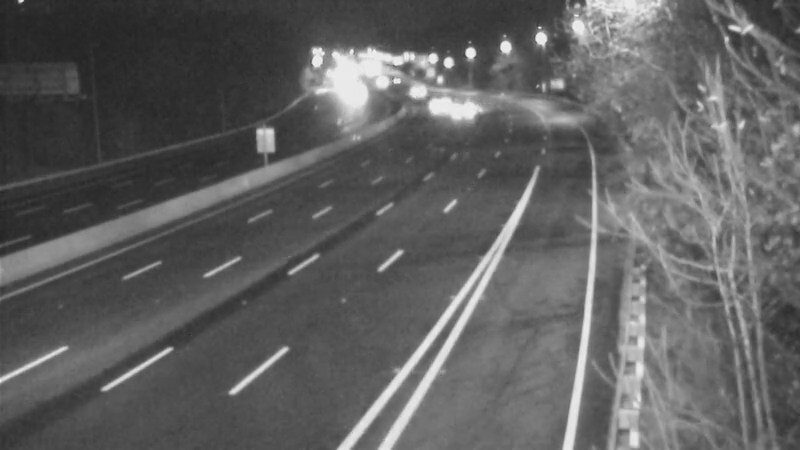vehicle: (388, 64, 438, 114), (413, 76, 463, 126), (443, 84, 493, 134)
